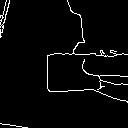cube: (24, 42, 102, 101)
